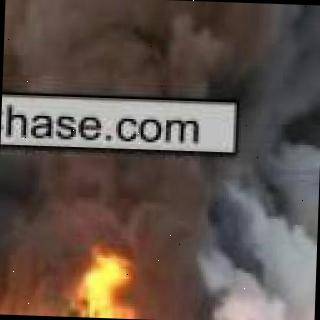fire: (84, 238, 140, 320), (0, 308, 14, 315)
